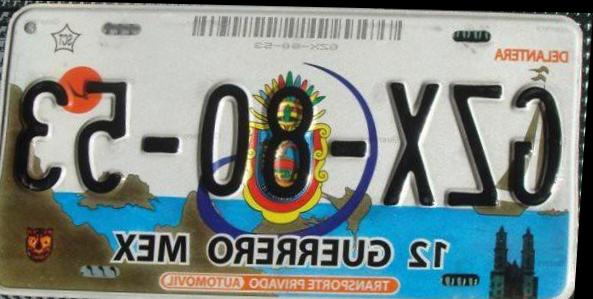License_Plate: (0, 12, 577, 299)
